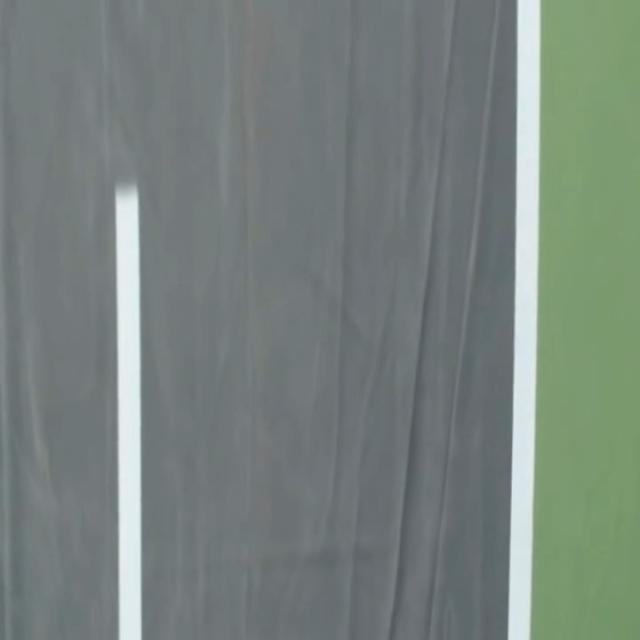center: (116, 184, 141, 639)
right: (508, 0, 540, 639)
